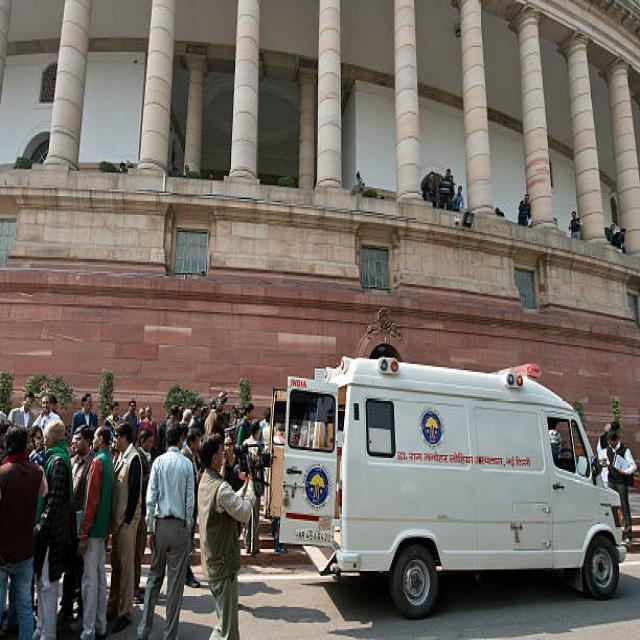ambulance: (269, 366, 626, 618)
